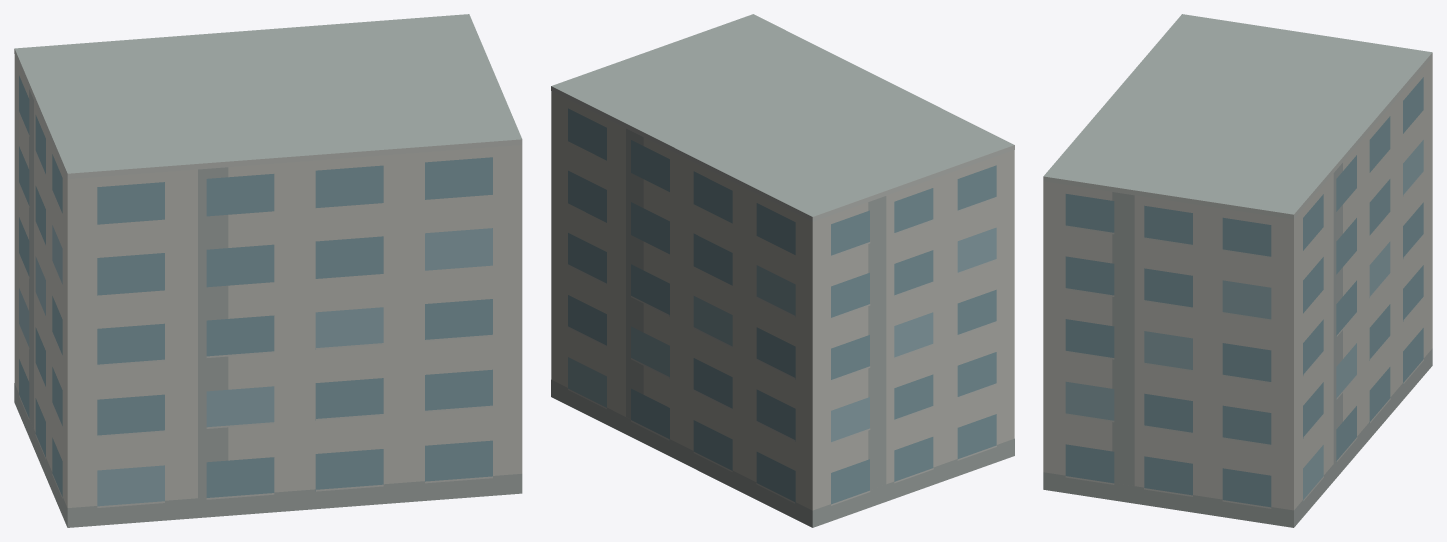
File: residential-1fc103aa-77d0-4cb4-b206-324677f94dd9.glb
3 views of the same model, side by side, from view 1: azimuth 30°, elevation 25°; view 2: azimuth 150°, elevation 25°; view 3: azimuth 270°, elevation 25° (orthographic). The views are drawn at different scales.
Visible parts, largest first — view 1: residential-1fc103aa-77d0-4cb4-b206-324677f94dd9.tmp; view 2: residential-1fc103aa-77d0-4cb4-b206-324677f94dd9.tmp; view 3: residential-1fc103aa-77d0-4cb4-b206-324677f94dd9.tmp.
Boxes of the visible parts, x1,y1,x2,y2 form: residential-1fc103aa-77d0-4cb4-b206-324677f94dd9.tmp: (14,14,522,527); residential-1fc103aa-77d0-4cb4-b206-324677f94dd9.tmp: (551,14,1014,527); residential-1fc103aa-77d0-4cb4-b206-324677f94dd9.tmp: (1043,14,1432,527).
Bounding box in the file's own units: 20.96 × 15.25 × 17.19.
